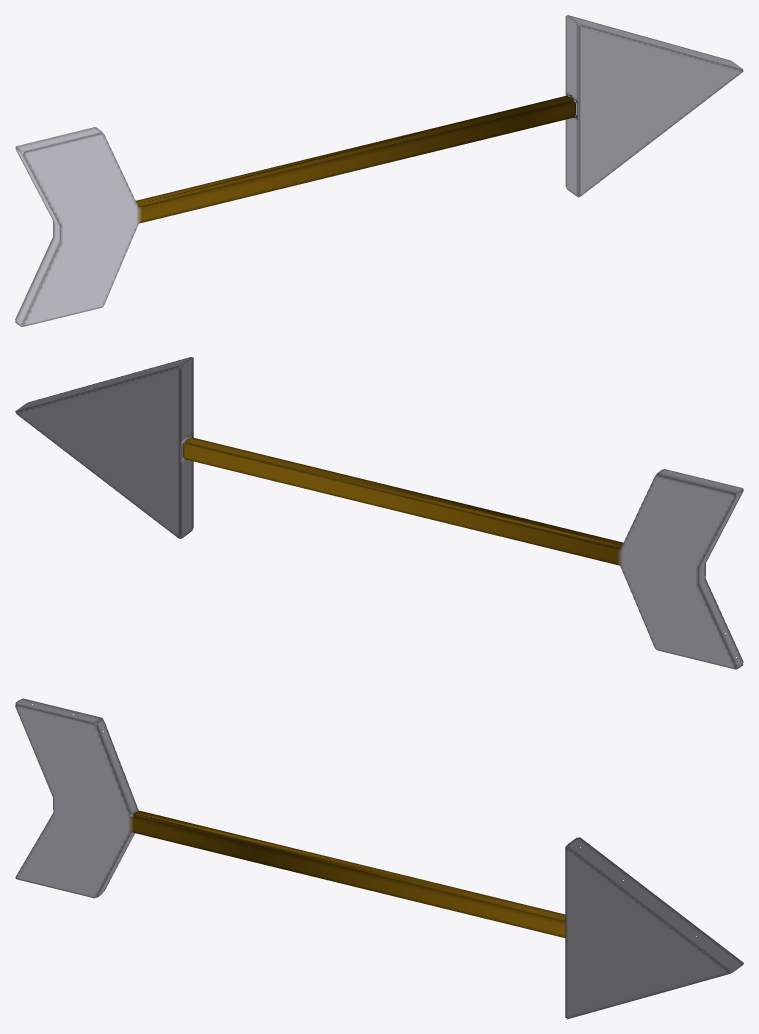
File: arrow.obj
The picture shows the model from 3 angles, top to bottom: view 1: azimuth 30°, elevation 25°; view 2: azimuth 150°, elevation 25°; view 3: azimuth 330°, elevation 25°; orthographic projection.
Visible parts, largest first — view 1: Arrow1; view 2: Arrow1; view 3: Arrow1.
Boxes of the visible parts, x1=… form: Arrow1: x1=15, y1=15, x2=743, y2=326; Arrow1: x1=15, y1=357, x2=743, y2=669; Arrow1: x1=15, y1=698, x2=743, y2=1019.
Bounding box in the file's own units: 3.9 × 0.9252 × 0.125.
Materials: 1 (1 with a texture image).
